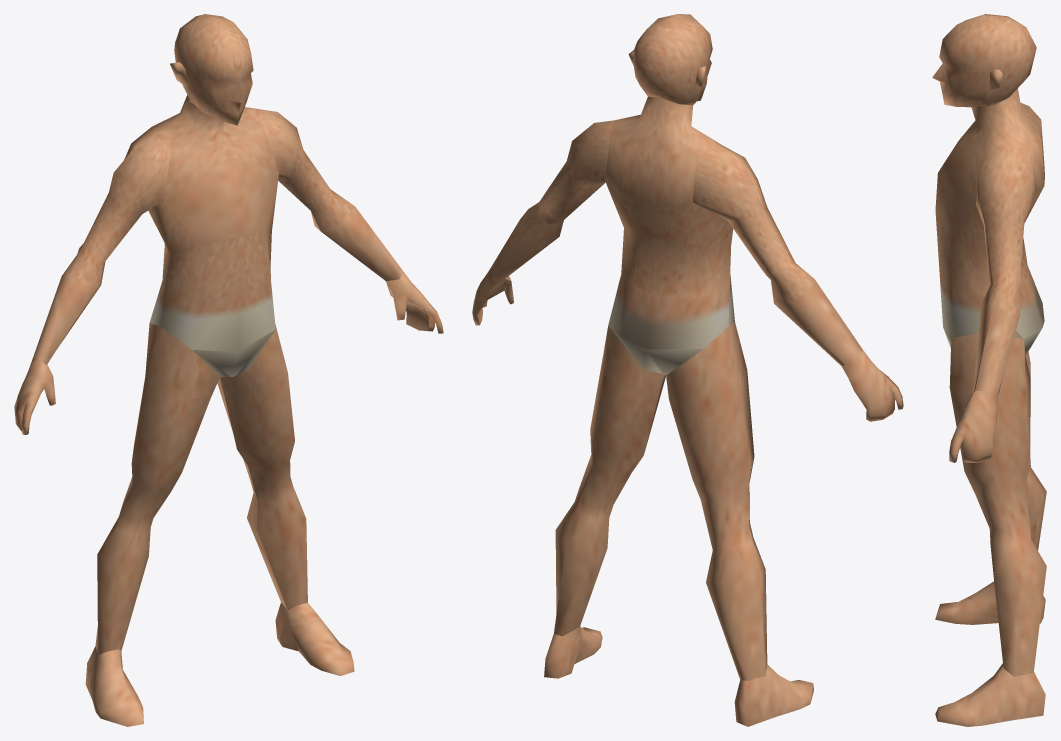
Rendered from player_model.glb.
3 renders of one model, left to right at view 1: azimuth 30°, elevation 25°; view 2: azimuth 150°, elevation 25°; view 3: azimuth 270°, elevation 25°, orthographic. The views are drawn at different scales.
Parts seen in each view (by area): view 1: Cube; view 2: Cube; view 3: Cube.
Part boxes in pixels (left/top/right/bottom): Cube: left=14, top=14, right=443, bottom=726; Cube: left=472, top=14, right=903, bottom=726; Cube: left=932, top=14, right=1046, bottom=726.
Size of the model in its own units: 2.64 by 3.98 by 0.635.
1 material, 1 textured.
